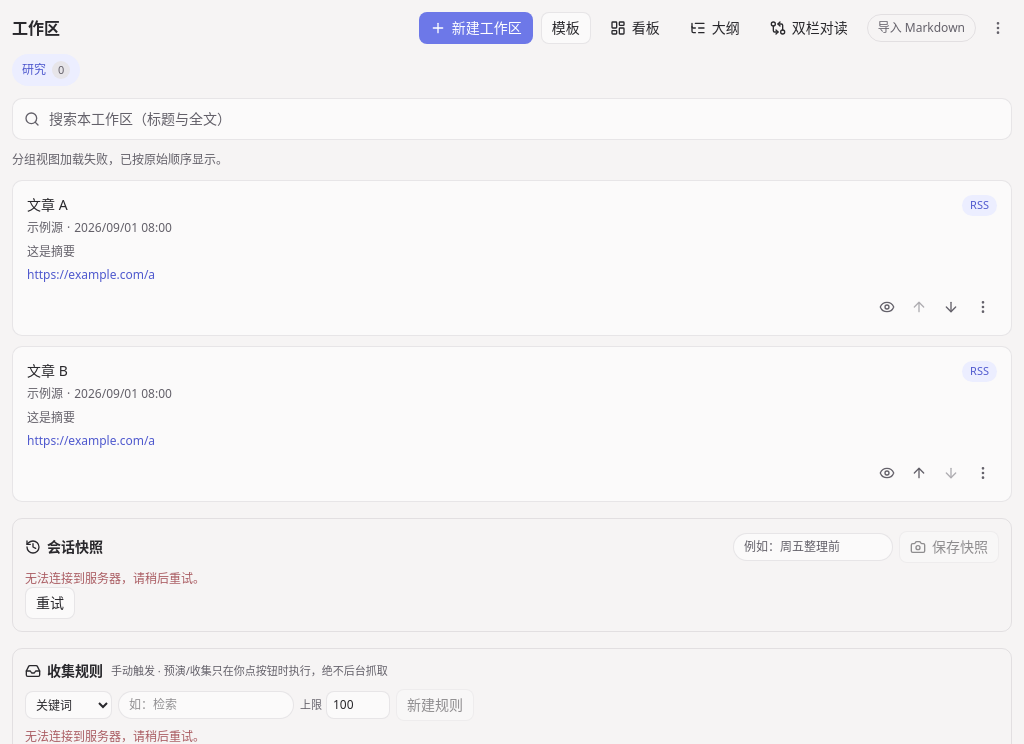
Scenario: P15 重排序跨设备冲突 › 409 workspace_revision_conflict → 诚实提示 + 重取；行内不重复报错
Click the 2nd button named "上移": x=919, y=473 x1=905 y1=459 x2=933 y2=487
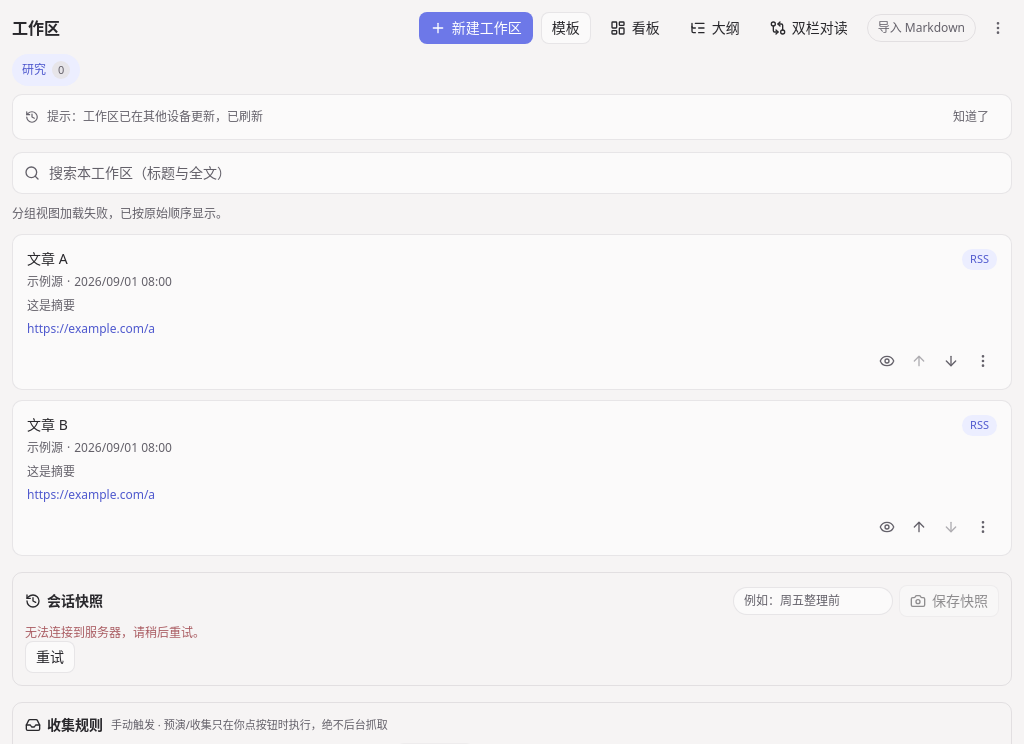
Check: the text "提示：工作区已在其他设备更新，已刷新" is shown, box x1=47 y1=109 x2=263 y2=125
